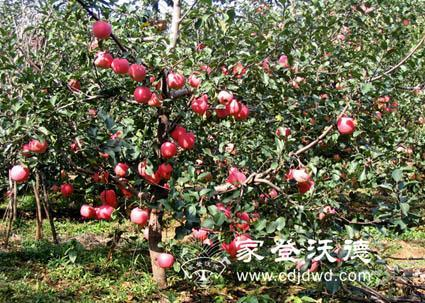apple: (9, 165, 29, 184), (130, 206, 149, 225), (336, 116, 355, 134), (94, 51, 113, 68), (110, 57, 129, 73), (114, 163, 129, 176)
